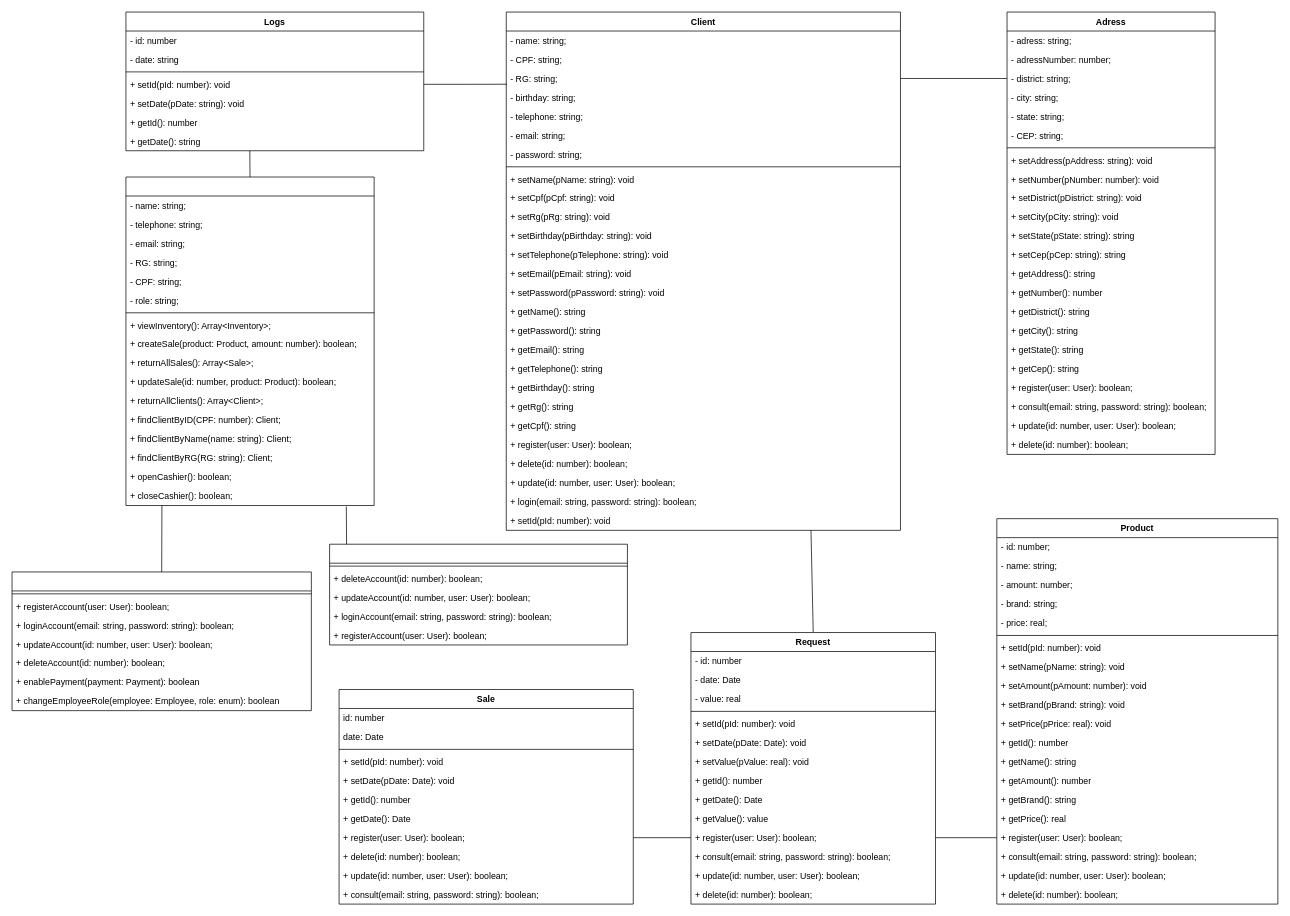
The diagram is 1290 pixels wide and 916 high, and some of its shapes have lost their labels. The shapes that lost their labels are listed below. From the top down, each one's box as (x1, y1, x2, y2) in pixels, then its label:
(125, 176, 374, 506): Employee
(329, 543, 627, 645): Cashier
(11, 571, 311, 711): Administrator
